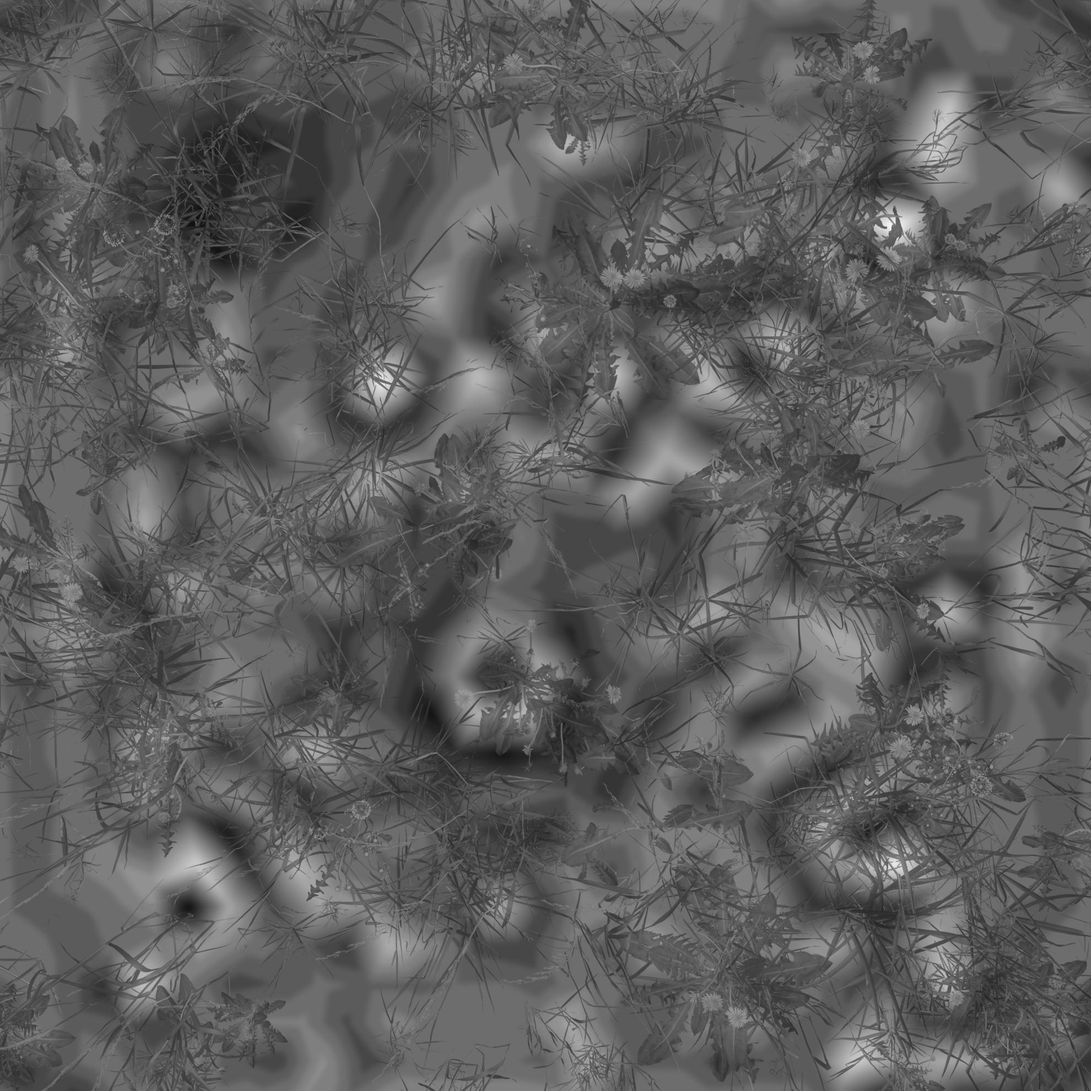landmine: (410, 588, 586, 753)
